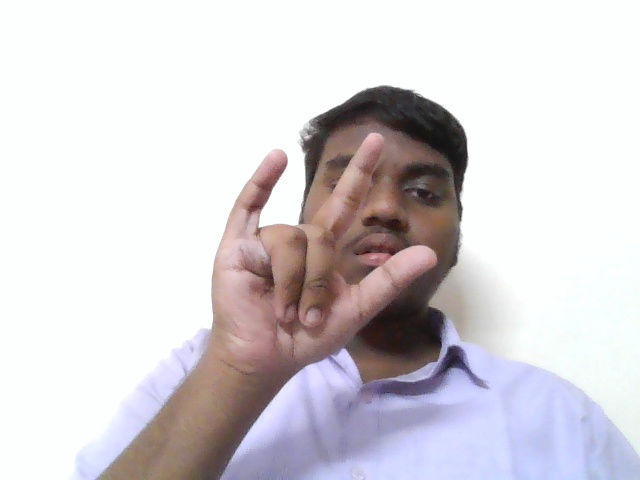I love you: (188, 127, 436, 368)
